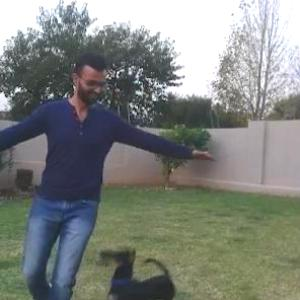land: (0, 68, 173, 293)
